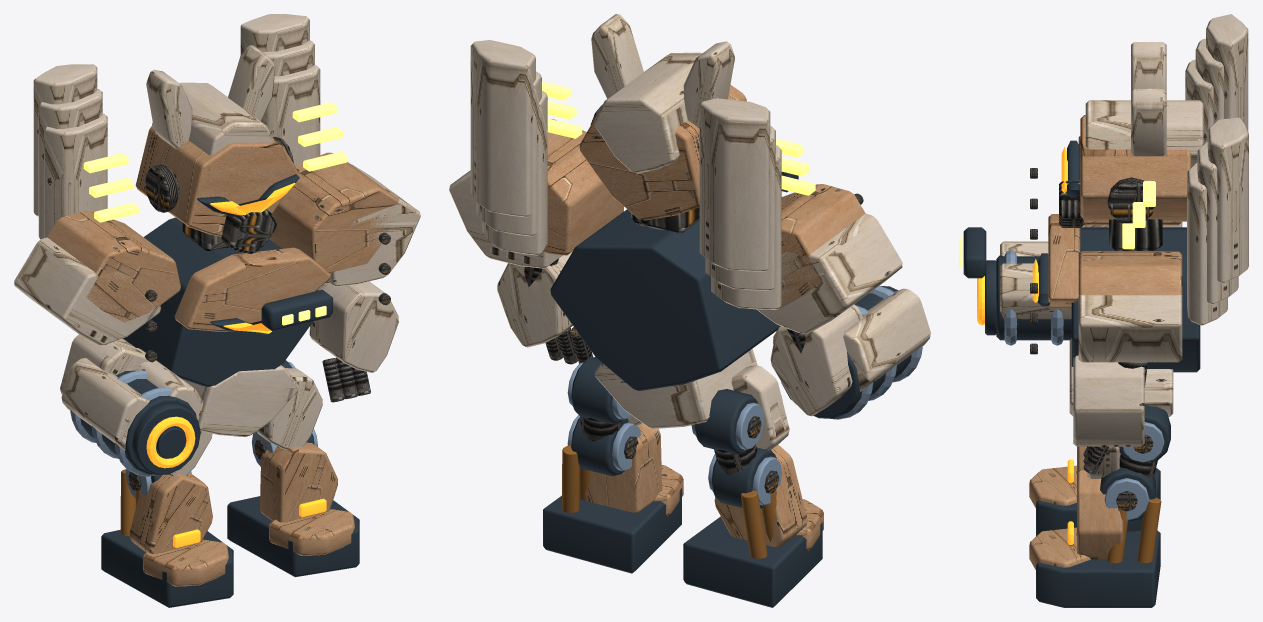
File: sector_05_0.glb
3 views of the same model, side by side, from view 1: azimuth 30°, elevation 25°; view 2: azimuth 150°, elevation 25°; view 3: azimuth 270°, elevation 25° (orthographic). The views are drawn at different scales.
Visible parts, largest first — view 1: Navy crown, Cuirass yoke, Angular scout torso, Greave armor, Greave armor.001, Neck actuator, Servo housing.004, Servo housing.001, Memory terminal contacts, Tapered thigh shield.001, Recessed V optic, Bearing ring (+1 smaller); view 2: Navy crown, Angular scout torso, Cuirass yoke, Servo housing.001, Servo housing.004, Greave armor.001, Greave armor, Neck actuator, Memory terminal contacts, Tapered thigh shield, Bearing ring.002, Calf piston (+5 smaller); view 3: Navy crown, Cuirass yoke, Angular scout torso, Servo housing.004, Greave armor.001, Neck actuator, Greave armor, Bearing ring.008, Calf piston.002, Servo housing.001, Memory terminal contacts, Hub.008 (+3 smaller).
Part boxes in pixels (x1,y1,x2,y2): Navy crown: (14,14,420,450); Cuirass yoke: (47,125,399,331); Angular scout torso: (70,174,332,474); Greave armor: (129,473,228,586); Greave armor.001: (260,442,354,555); Neck actuator: (145,136,390,402); Servo housing.004: (227,360,359,577); Servo housing.001: (101,474,233,607); Memory terminal contacts: (83,102,347,325); Tapered thigh shield.001: (257,368,322,449); Recessed V optic: (146,182,295,468); Bearing ring: (70,370,170,476); Navy crown: (449,14,930,428); Angular scout torso: (550,171,911,418); Cuirass yoke: (543,84,865,308); Servo housing.001: (683,389,822,607); Servo housing.004: (543,357,681,573); Greave armor.001: (585,423,683,516); Greave armor: (714,444,823,550); Neck actuator: (524,104,863,364); Memory terminal contacts: (542,81,815,195); Tapered thigh shield: (731,365,789,450); Bearing ring.002: (691,402,781,505); Calf piston: (740,490,776,558); Navy crown: (1000,14,1248,446); Cuirass yoke: (1048,115,1191,306); Angular scout torso: (963,140,1200,372); Servo housing.004: (1036,405,1170,607); Greave armor.001: (1029,470,1123,569); Neck actuator: (1030,168,1162,474); Greave armor: (1029,446,1120,507); Bearing ring.008: (1104,422,1164,520); Calf piston.002: (1107,497,1161,563); Servo housing.001: (1036,468,1160,536); Memory terminal contacts: (959,181,1155,267); Hub.008: (1116,434,1157,511).
Size of the model in its own units: 1.17 by 1.52 by 0.8107.
Materials: 8 (3 with a texture image).
